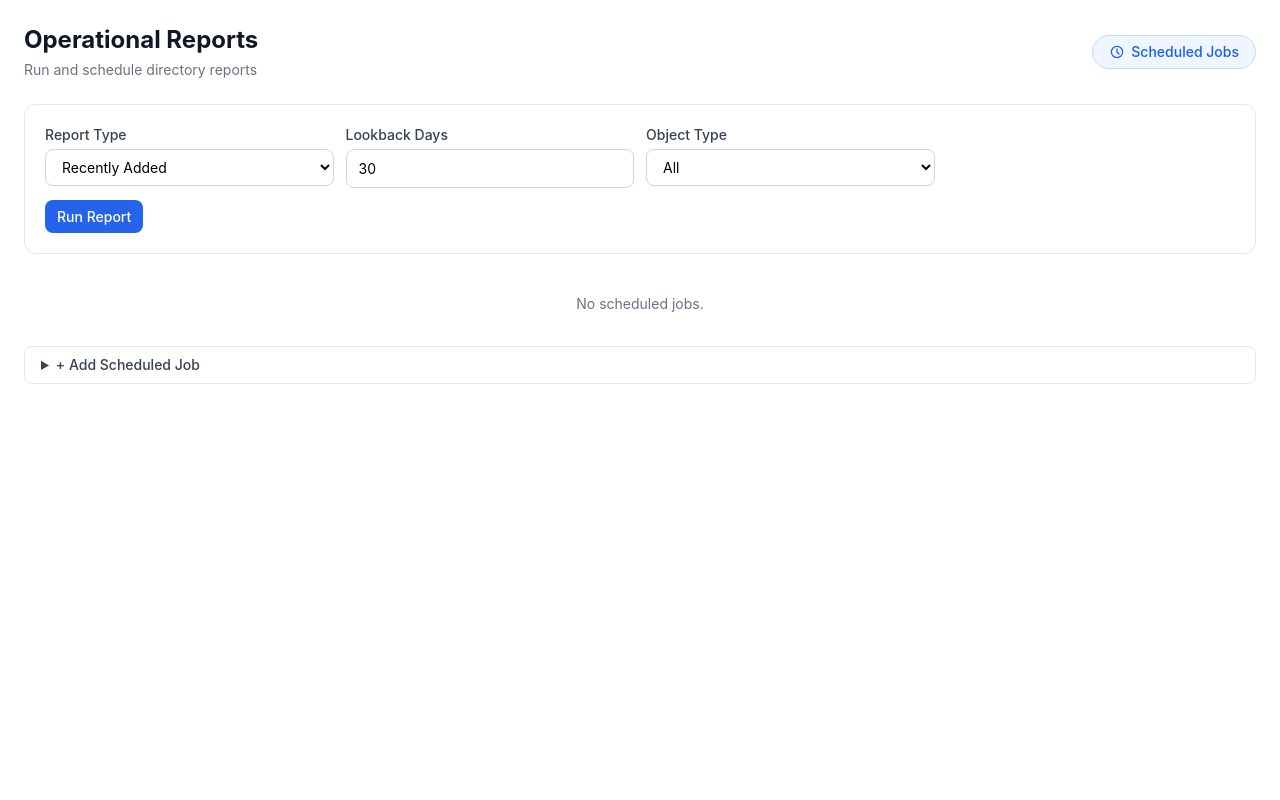
Test: ReportJobsView — result cells › shows the whole DN, clipped only by the column, so widening a column shows more
Click the button "Run Report": x=94, y=216 [45,200,143,233]
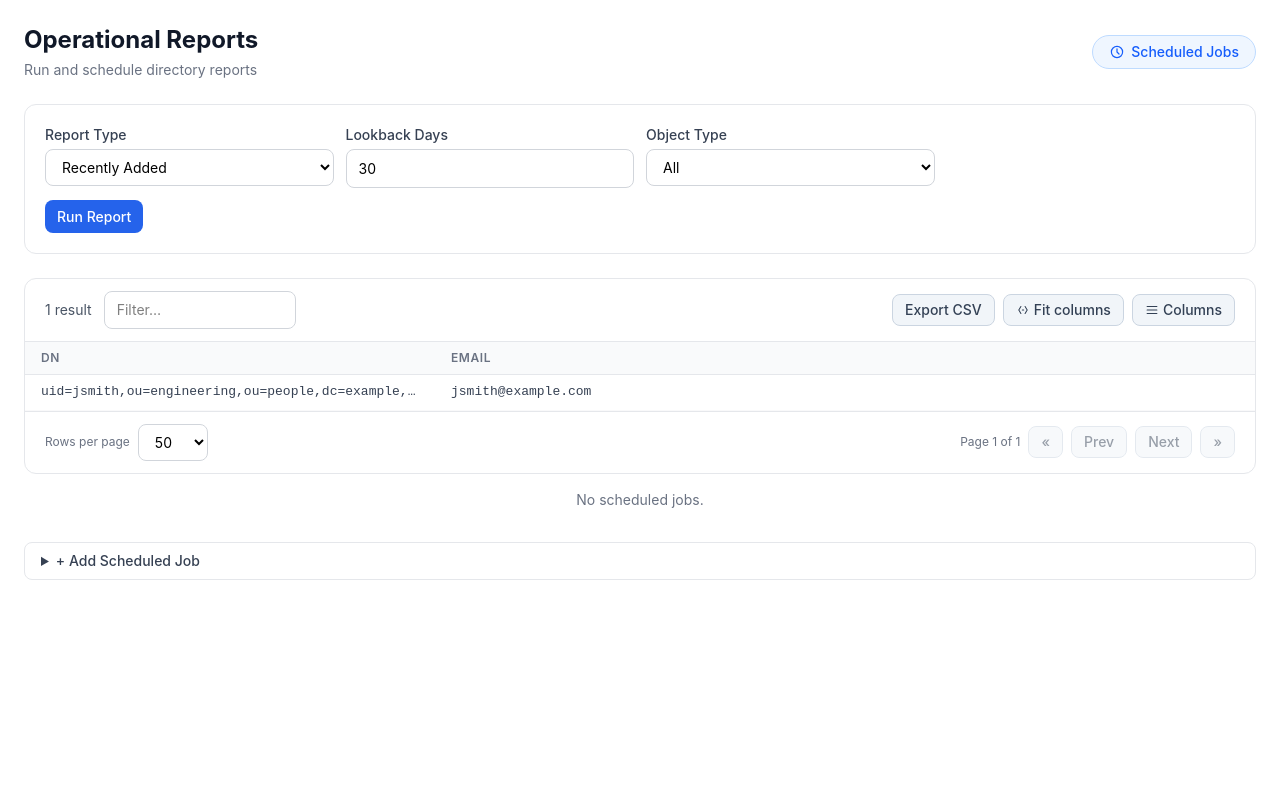
Check: the text with class "font-mono" reads "uid=jsmith,ou=engineering,ou=people,dc=example,dc=com", box [41,384,435,399]
